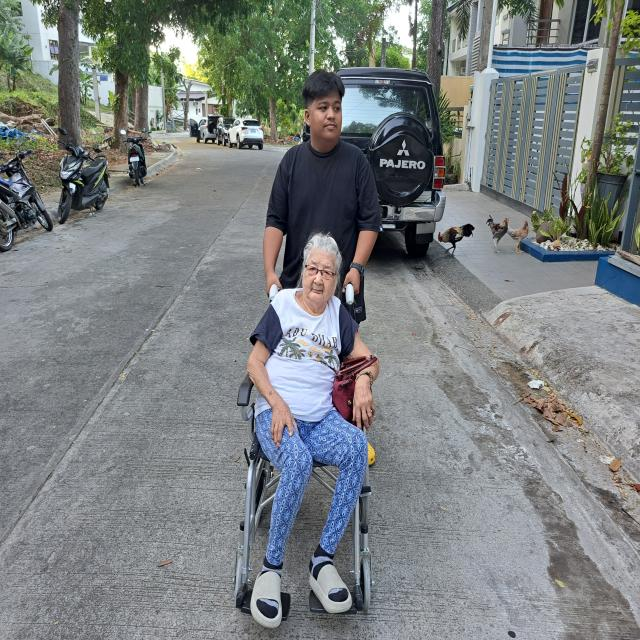wheelchairs: (234, 279, 379, 620)
